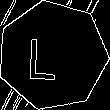L_N: (36, 30, 70, 82)
